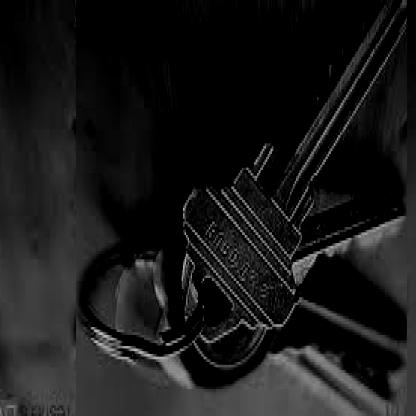key: (76, 0, 407, 416)
